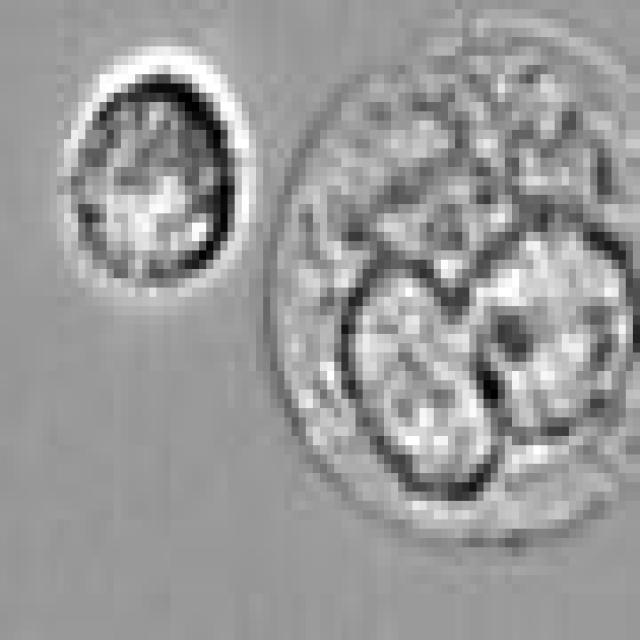Cancer Cell: (270, 19, 640, 538)
WBC: (64, 65, 242, 287)
